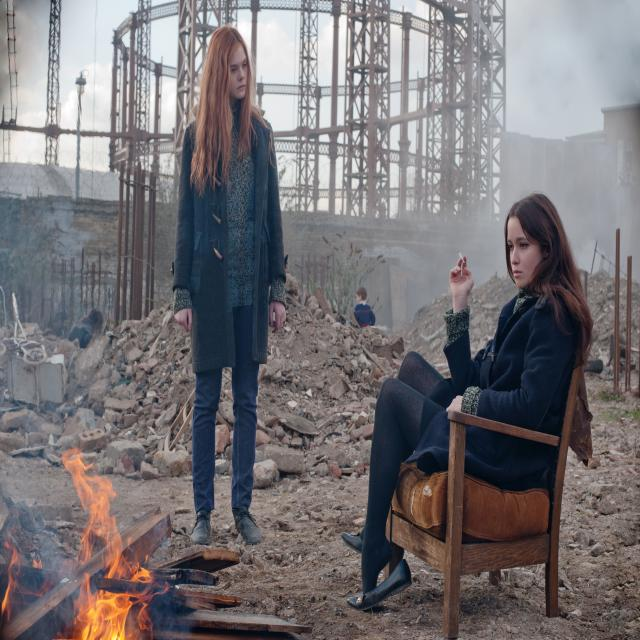smoke: (458, 250, 464, 260)
